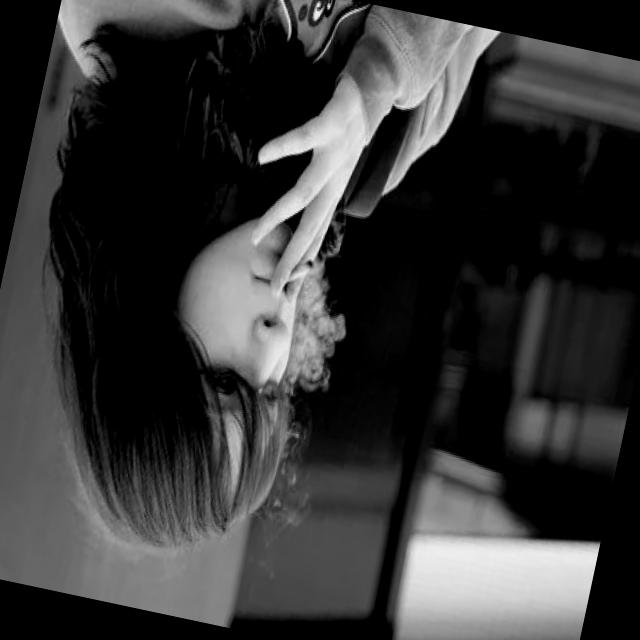cigarette: (273, 247, 316, 290)
